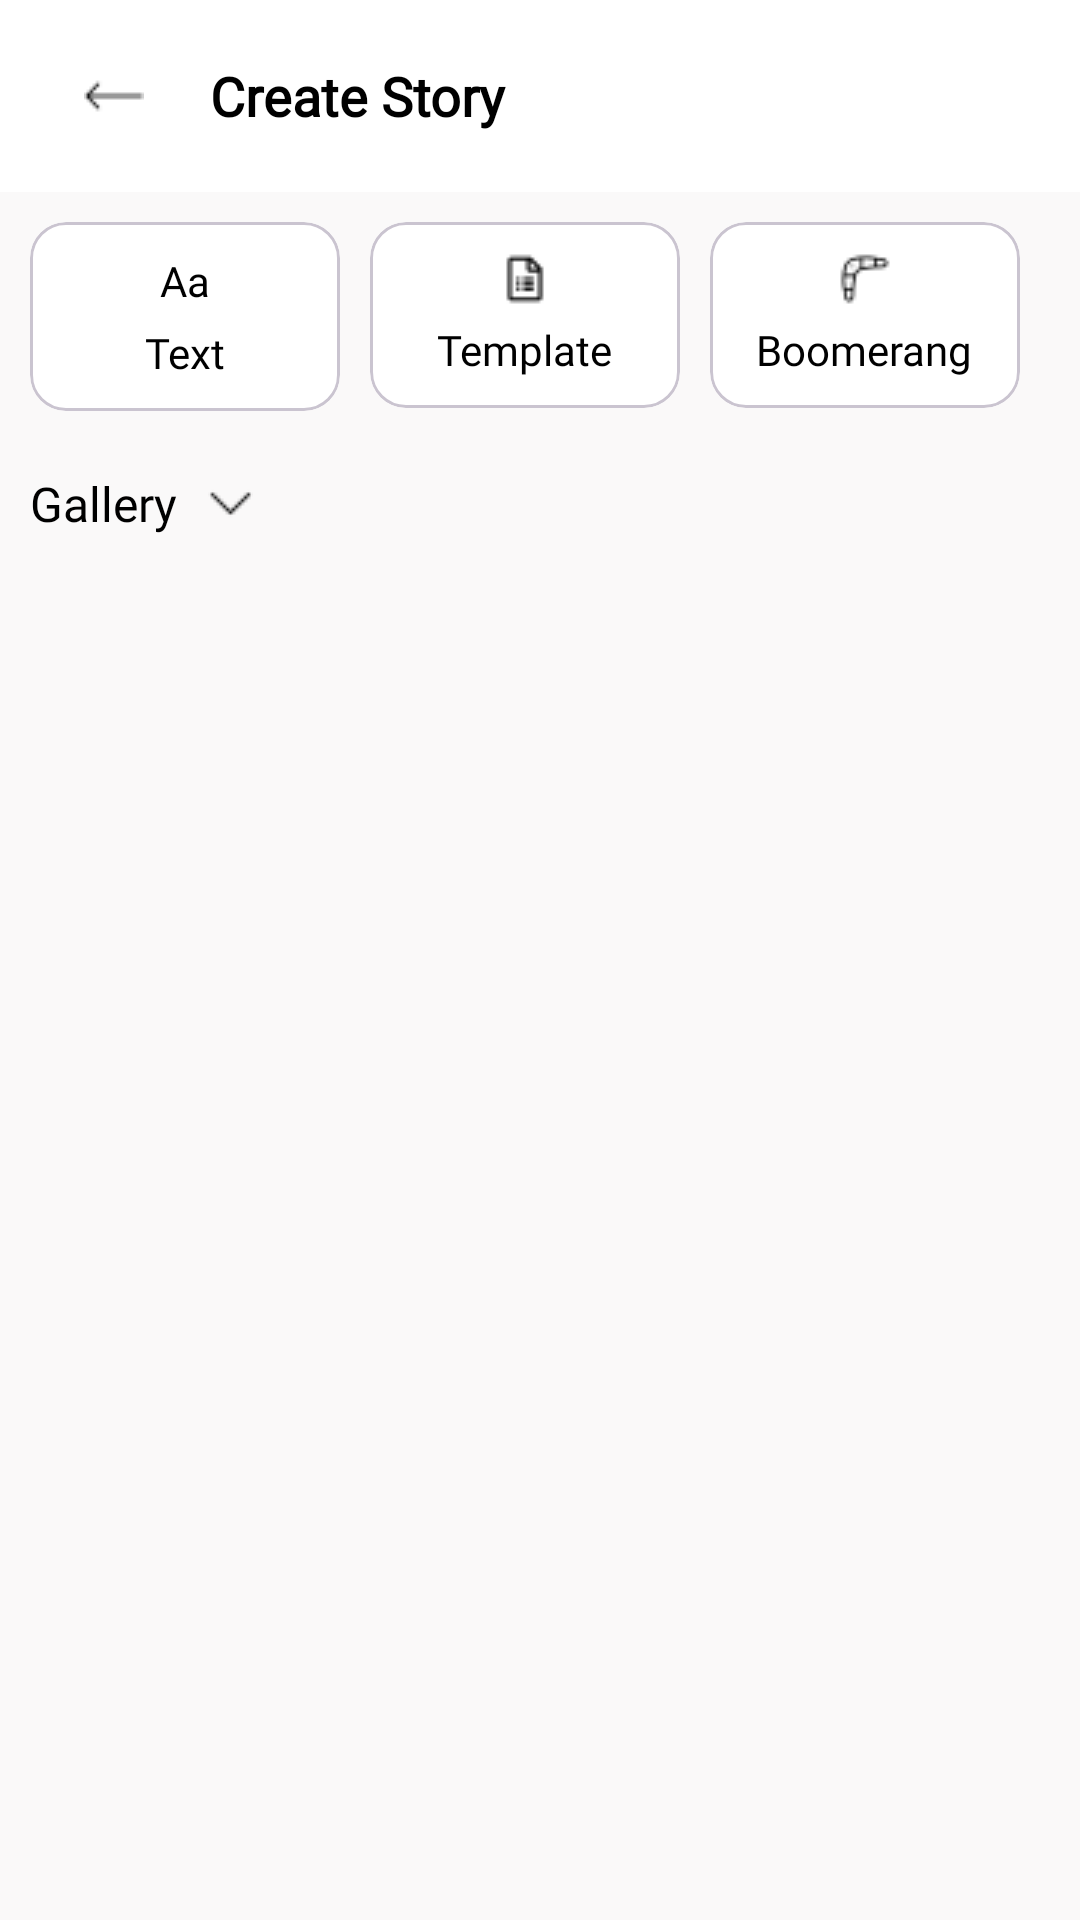

Icon bounding boxes for this 1080x1920 phone screenshot, format (x1, y1, x2, y2):
back arrow: (84, 81, 144, 111)
drop down arrow: (210, 492, 251, 515)
